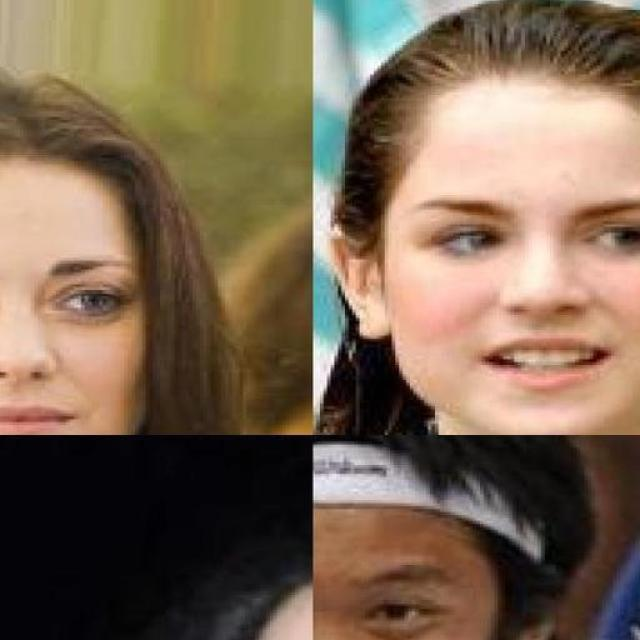bareface: (382, 68, 630, 424)
